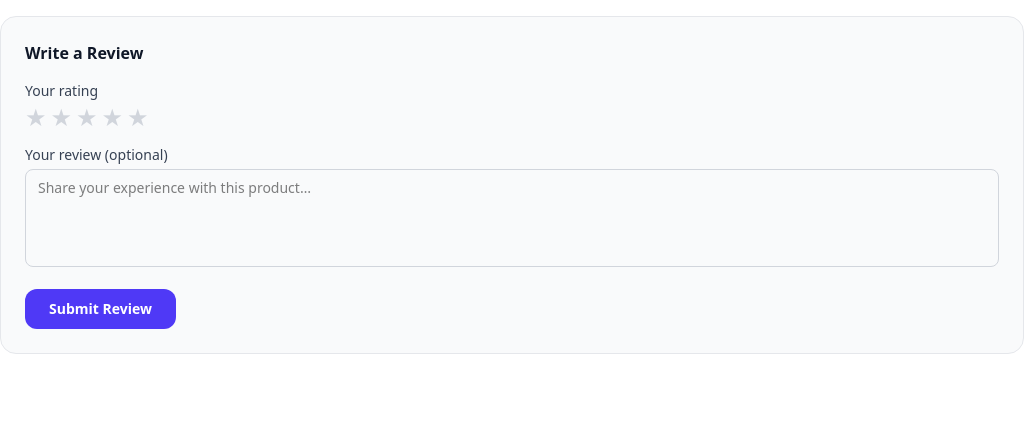
Scenario: WriteReviewForm › surfaces the backend's duplicate-review error message verbatim
Click the radio button named "4 stars" at (112, 117), box [102,105,123,129]
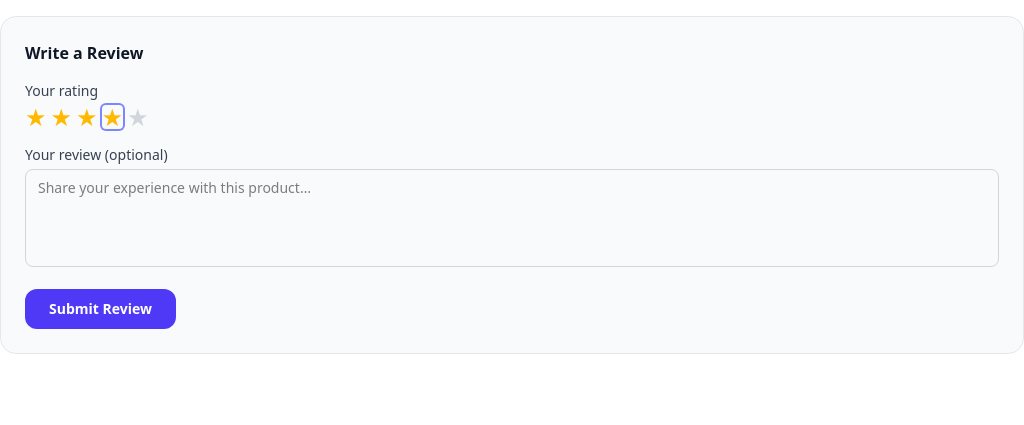
Click the button "Submit Review" at (100, 309), box [25,289,176,329]
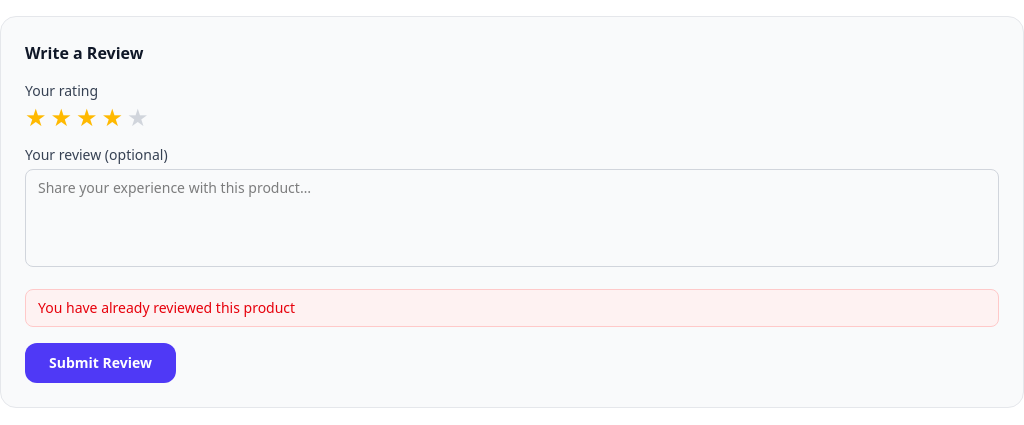
Now the text "You have already reviewed this product" is shown, box [25,289,999,327]
